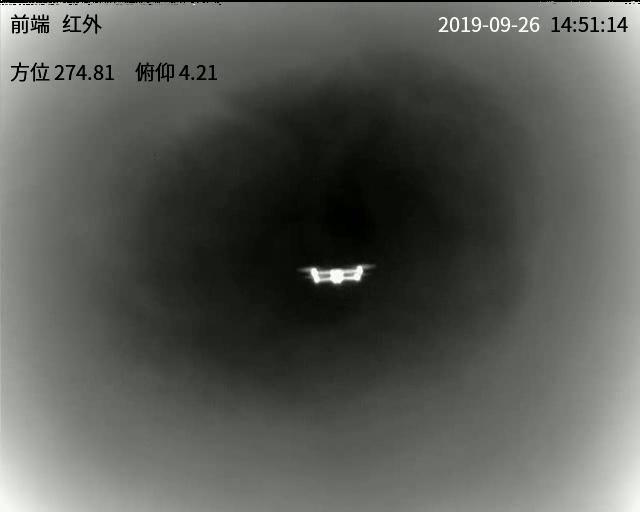DRONE: (305, 264, 369, 284)
